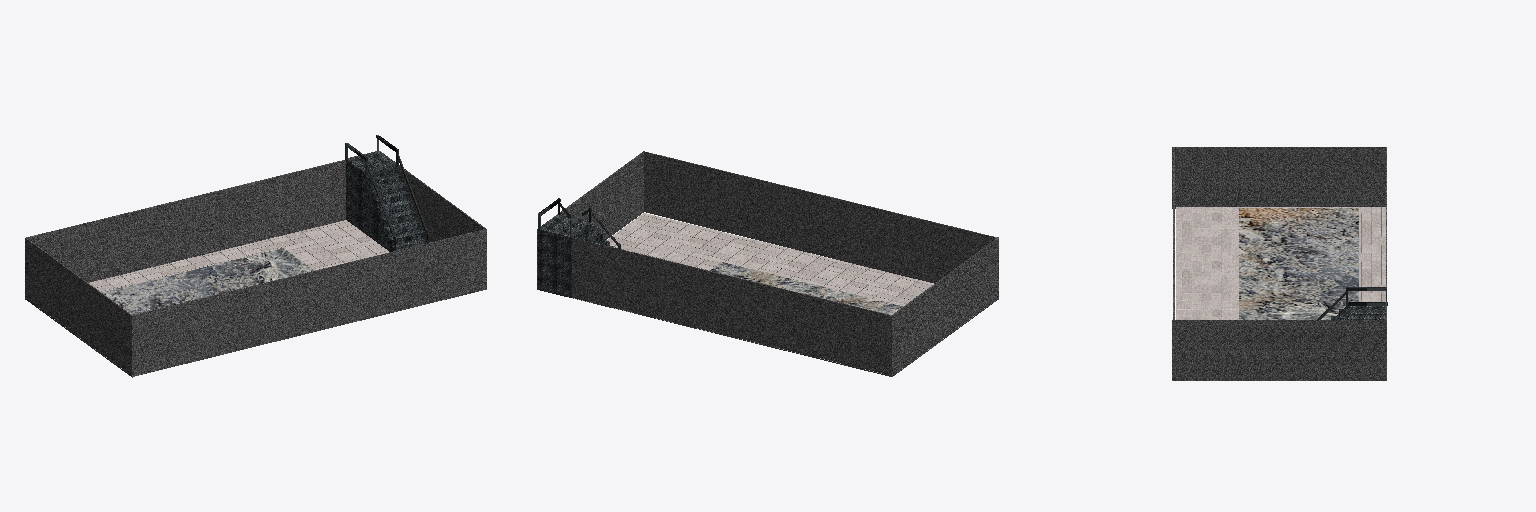
The picture shows the model from 3 angles: view 1: azimuth 30°, elevation 25°; view 2: azimuth 150°, elevation 25°; view 3: azimuth 270°, elevation 25°; orthographic projection.
Parts seen in each view (by area): view 1: Sub_walls, Stairs001, Box007, pPlaneSubP; view 2: Sub_walls, Box007, Stairs001, pPlaneSubP; view 3: Sub_walls, pPlaneSubP, Box007, Stairs001.
Boxes of the visible parts, x1=… form: Sub_walls: x1=25, y1=151, x2=486, y2=377; Stairs001: x1=345, y1=135, x2=427, y2=251; Box007: x1=39, y1=220, x2=388, y2=368; pPlaneSubP: x1=101, y1=248, x2=313, y2=314; Sub_walls: x1=537, y1=151, x2=998, y2=376; Box007: x1=574, y1=213, x2=984, y2=373; Stairs001: x1=538, y1=198, x2=620, y2=297; pPlaneSubP: x1=710, y1=262, x2=903, y2=314; Sub_walls: x1=1172, y1=147, x2=1386, y2=380; pPlaneSubP: x1=1239, y1=208, x2=1358, y2=319; Box007: x1=1176, y1=207, x2=1385, y2=319; Stairs001: x1=1317, y1=287, x2=1387, y2=319.
Bounding box in the file's own units: 1282 × 268 × 672.
4 materials, 4 textured.